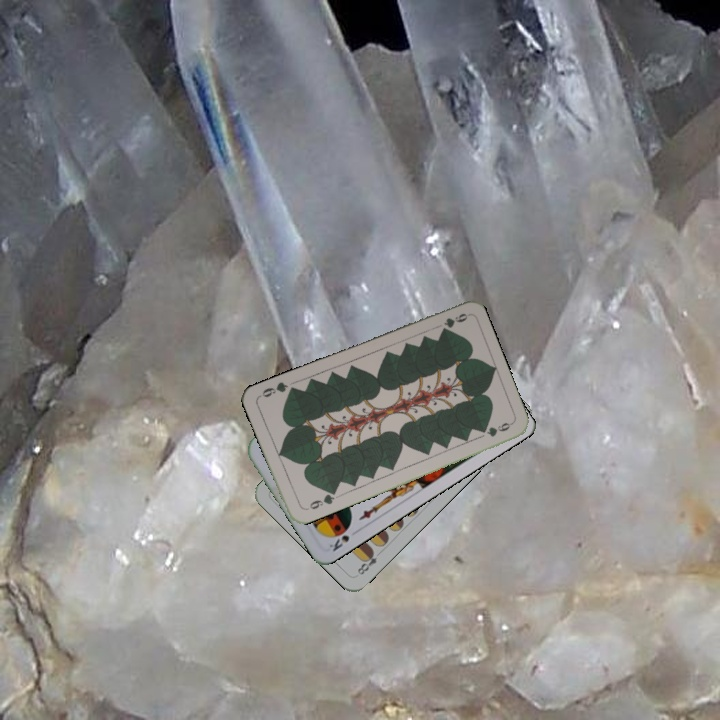E8: (353, 546, 379, 577)
G9: (301, 488, 338, 513), (437, 309, 470, 334)
SK: (325, 531, 352, 554)
